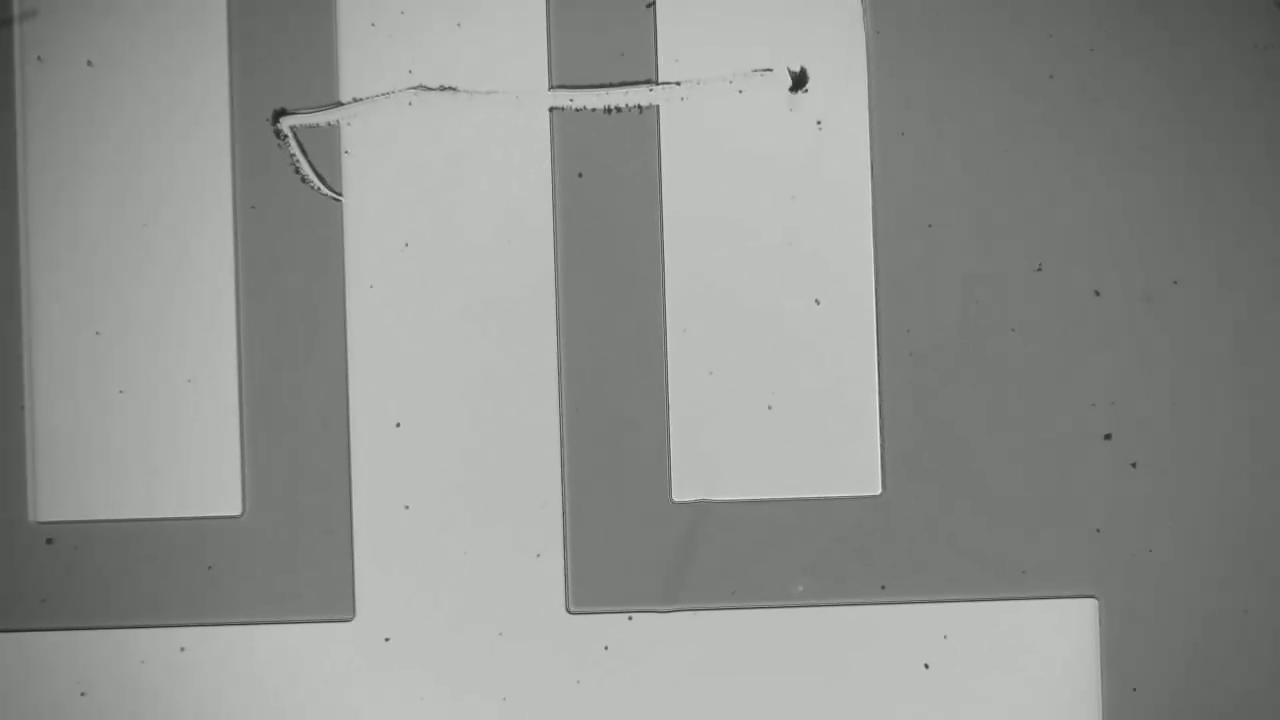Short_circuit: (204, 79, 386, 149), (530, 64, 707, 134)
